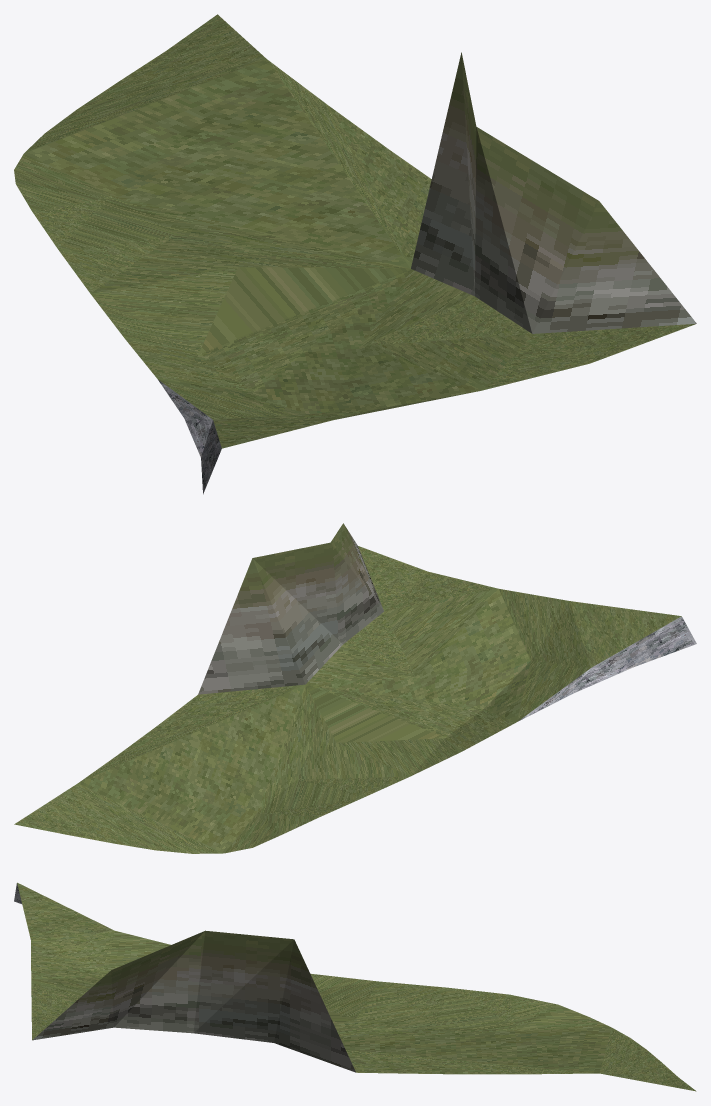
The model's file is lod_cen_bit_02.obj.
The picture shows the model from 3 angles, top to bottom: view 1: azimuth 30°, elevation 25°; view 2: azimuth 150°, elevation 25°; view 3: azimuth 270°, elevation 25°; orthographic projection. The views are drawn at different scales.
Parts seen in each view (by area): view 1: lod_cen_bit_02; view 2: lod_cen_bit_02; view 3: lod_cen_bit_02.
Part boxes in pixels (left/top/right/bottom): lod_cen_bit_02: left=14, top=14, right=696, bottom=494; lod_cen_bit_02: left=14, top=523, right=696, bottom=853; lod_cen_bit_02: left=14, top=882, right=696, bottom=1091.
Size of the model in its own units: 88.28 by 36.43 by 149.
3 materials, 3 textured.
